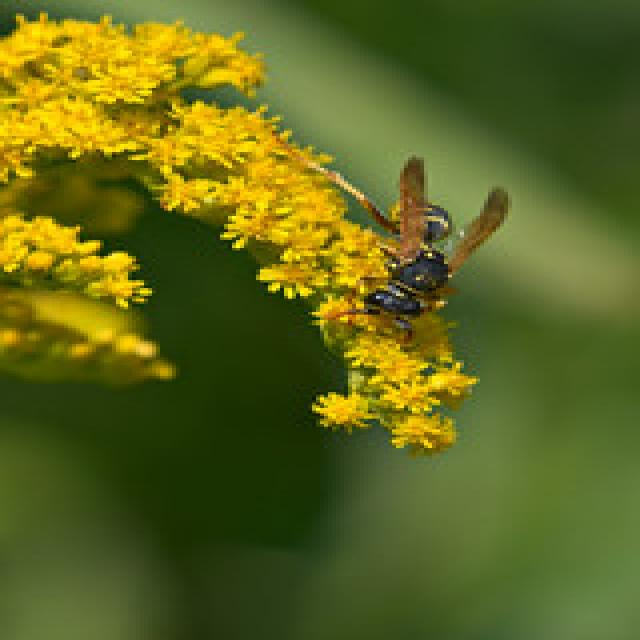Guepe: (312, 150, 516, 346)
